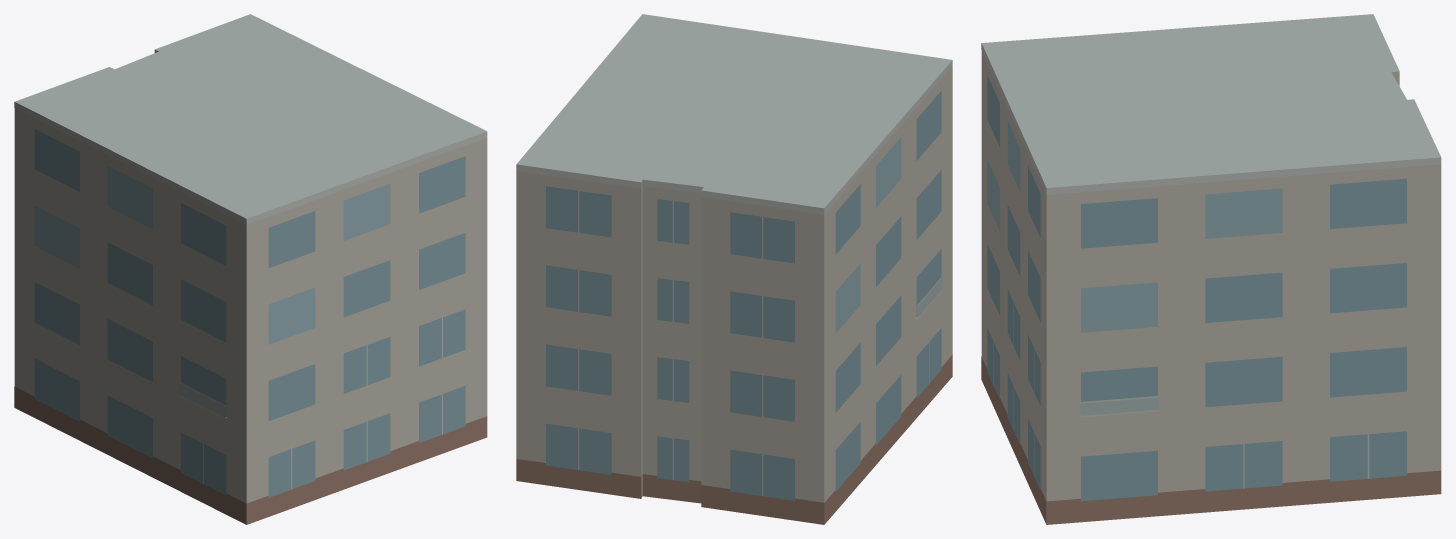
File: survey-upis-32850368.glb
3 views of the same model, side by side, from view 1: azimuth 30°, elevation 25°; view 2: azimuth 150°, elevation 25°; view 3: azimuth 270°, elevation 25° (orthographic). The views are drawn at different scales.
Visible parts, largest first — view 1: survey-upis-32850368.tmp; view 2: survey-upis-32850368.tmp; view 3: survey-upis-32850368.tmp.
Boxes of the visible parts, x1,y1,x2,y2 form: survey-upis-32850368.tmp: (14, 14, 487, 524); survey-upis-32850368.tmp: (516, 14, 952, 524); survey-upis-32850368.tmp: (981, 14, 1441, 524).
Size of the model in its own units: 13.37 by 12.05 by 14.92.
